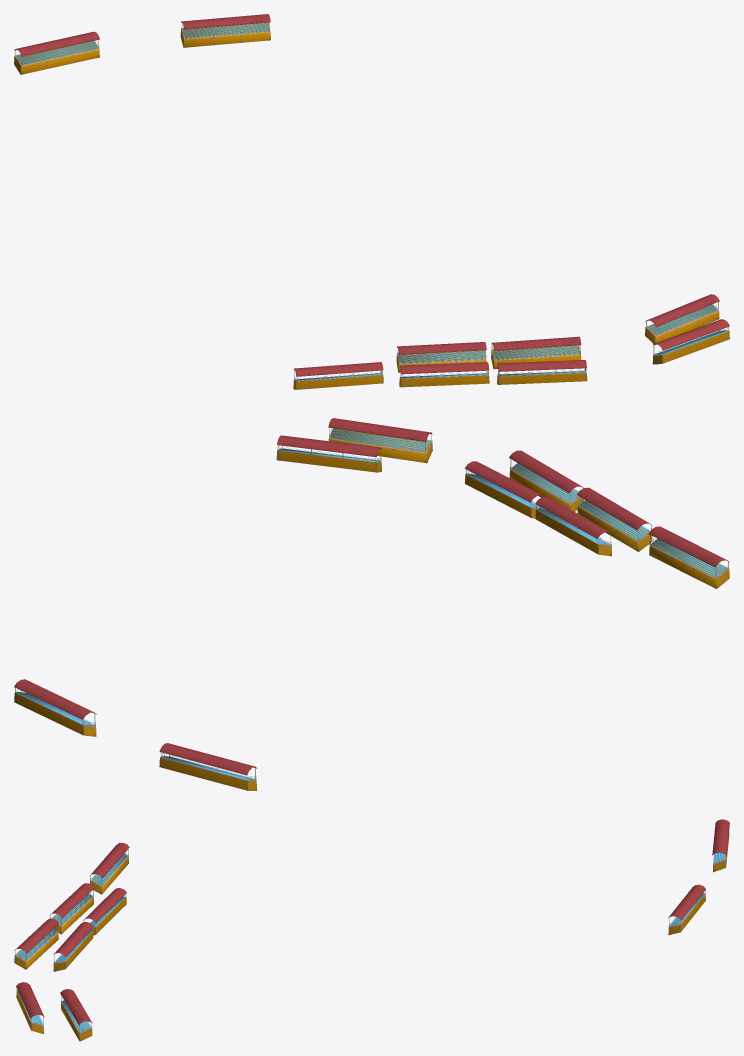
File: NUEVAS_TRIBUNAS 1.fbx
3 renders of one model, top to bottom at view 1: azimuth 30°, elevation 25°; view 2: azimuth 150°, elevation 25°; view 3: azimuth 270°, elevation 25°, orthographic. The views are drawn at different scales.
Parts seen in each view (by area): view 1: GRADA.013, GRADA.018, GRADA.016, GRADA.010, GRADA.017, GRADA.015, GRADA.014, GRADA.012, GRADA.011; view 2: GRADA.011, GRADA.015, GRADA.010, GRADA.018, GRADA.014, GRADA.013, GRADA.012, GRADA.017, GRADA.016; view 3: GRADA.012, GRADA.014, GRADA.015, GRADA.016, GRADA.010, GRADA.013, GRADA.017, GRADA.011, GRADA.018.
Part boxes in pixels (box(x1,y1,x2,y2)): GRADA.013: box(180, 14, 270, 47); GRADA.018: box(14, 31, 99, 74); GRADA.016: box(491, 336, 581, 369); GRADA.010: box(645, 294, 719, 345); GRADA.017: box(396, 342, 486, 372); GRADA.015: box(293, 362, 383, 389); GRADA.014: box(399, 362, 489, 387); GRADA.012: box(497, 360, 587, 384); GRADA.011: box(652, 319, 729, 364); GRADA.011: box(328, 418, 432, 463); GRADA.015: box(649, 526, 729, 588); GRADA.010: box(276, 435, 381, 472); GRADA.018: box(159, 743, 256, 790); GRADA.014: box(577, 487, 652, 551); GRADA.013: box(14, 679, 96, 736); GRADA.012: box(509, 450, 584, 511); GRADA.017: box(535, 496, 612, 556); GRADA.016: box(465, 461, 544, 518); GRADA.012: box(14, 918, 59, 969); GRADA.014: box(49, 883, 94, 934); GRADA.015: box(90, 843, 129, 894); GRADA.016: box(53, 922, 93, 971); GRADA.010: box(60, 989, 92, 1041); GRADA.013: box(668, 884, 705, 935); GRADA.017: box(83, 888, 126, 935); GRADA.011: box(16, 982, 44, 1033); GRADA.018: box(712, 819, 729, 872).
Size of the model in its own units: 26894 by 5563 by 46773.
